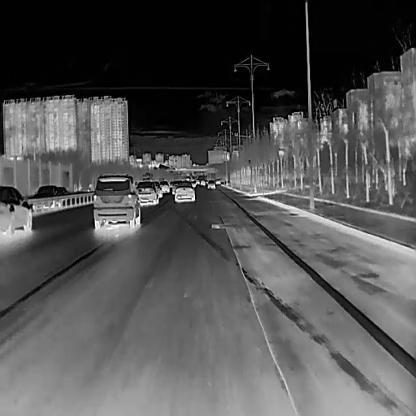car: (92, 173, 139, 228), (0, 184, 32, 237), (33, 185, 62, 211), (135, 180, 158, 205), (174, 181, 194, 202), (159, 180, 169, 193), (206, 180, 214, 189)
